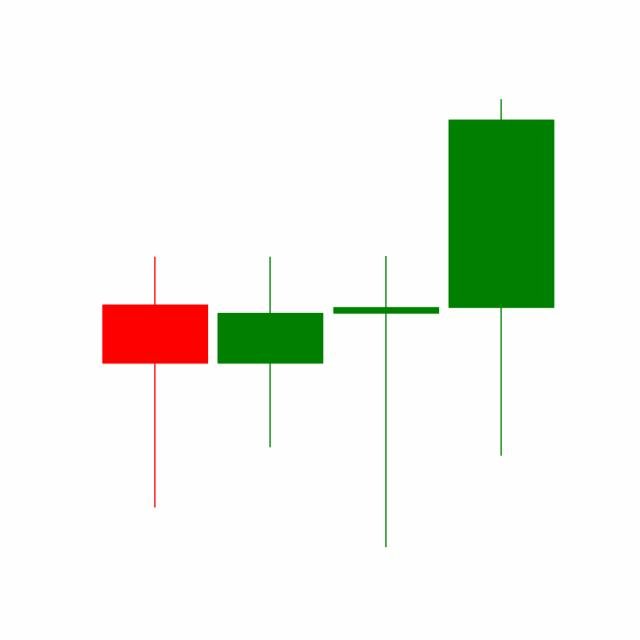Spinning Top: (328, 253, 444, 551)
